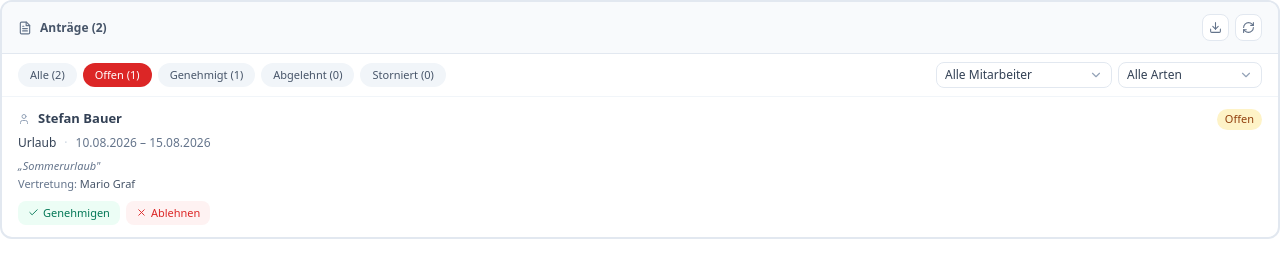
Test: LeaveRequestsList — per-employee filter for approvers › approvers see every active employee as a filter option
Expected: the text "Stefan Bauer" is shown, [38,109,122,128]
Click the button with aria-label "Mitarbeiter filtern": point(1024, 75) [936,62,1112,88]
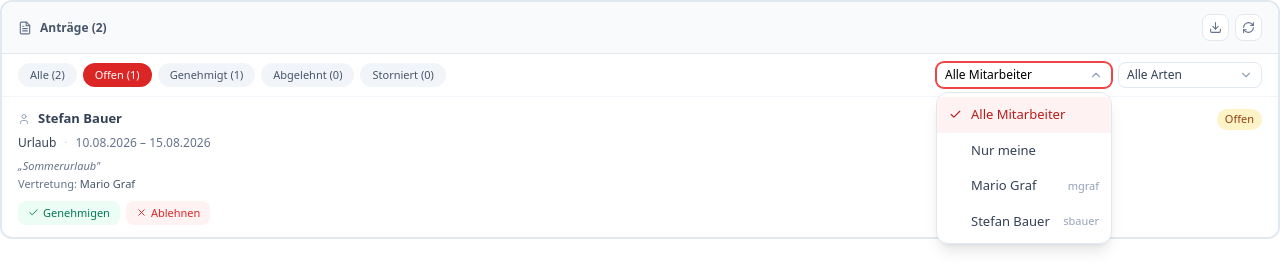
Expected: the option "Stefan Bauer sbauer" is shown, [937,204,1111,239]
Expected: the option "Mario Graf mgraf" is shown, [937,168,1111,204]
